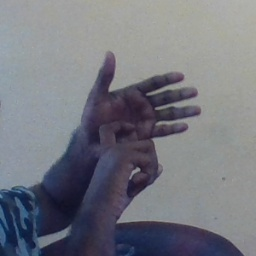R: (71, 45, 210, 202)
